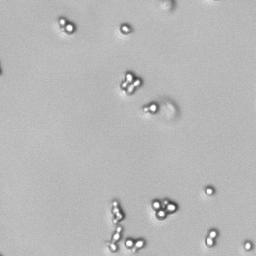budding: (104, 226, 122, 253), (124, 237, 146, 254), (58, 16, 75, 34), (141, 100, 159, 115), (205, 229, 217, 247)
cluster: (149, 197, 180, 222), (117, 70, 143, 96), (108, 201, 128, 225)
individual: (120, 23, 131, 36), (243, 240, 253, 252), (205, 186, 214, 196)
